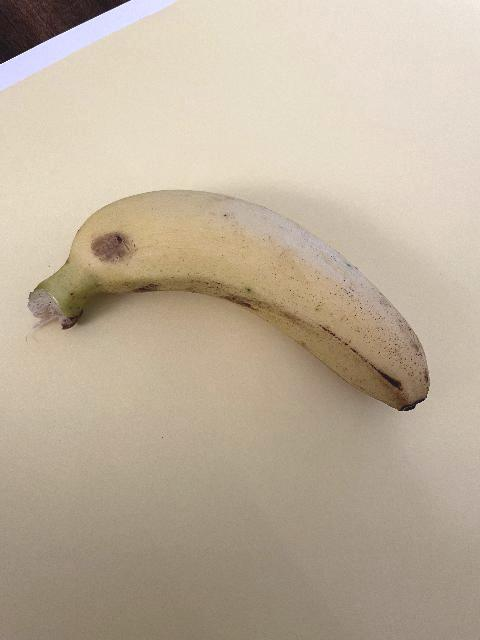banana: (28, 188, 431, 412)
